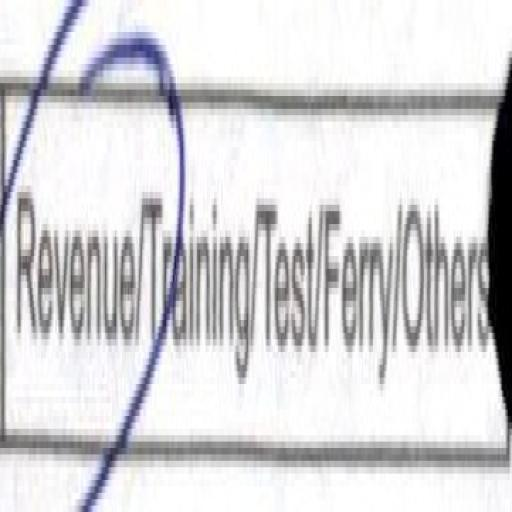check: (2, 5, 136, 512)
